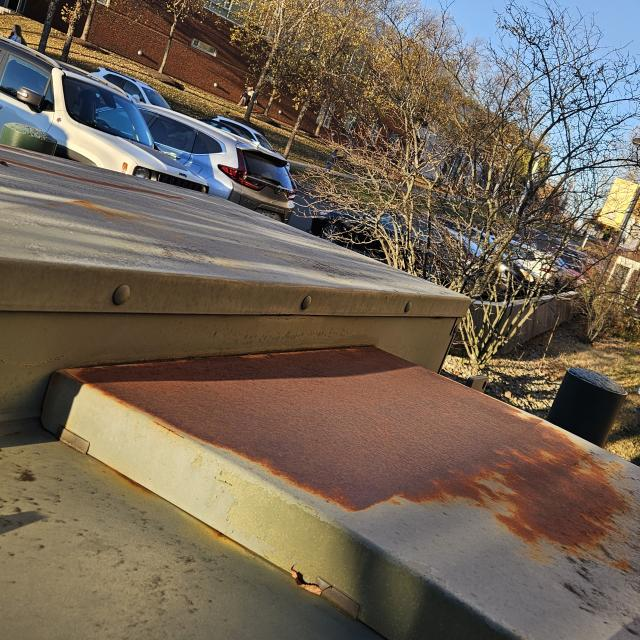Uniform Corrosion: (66, 340, 640, 582)
